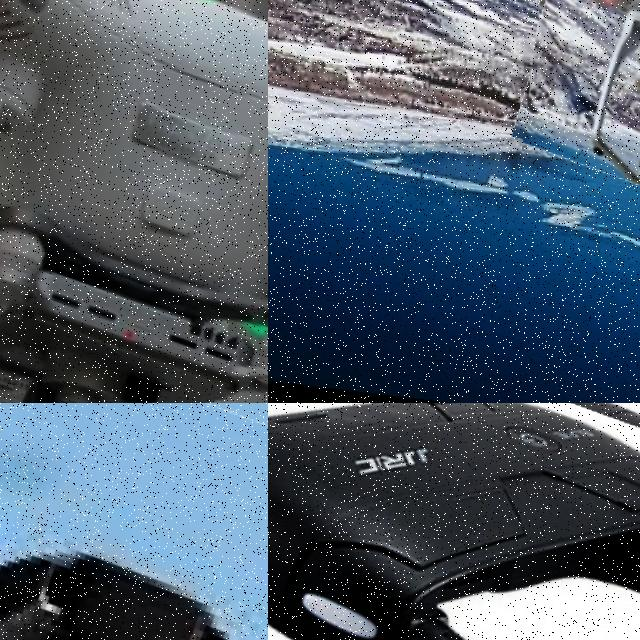drone: (0, 0, 268, 403), (268, 403, 640, 640), (0, 403, 268, 640), (518, 0, 640, 207)
